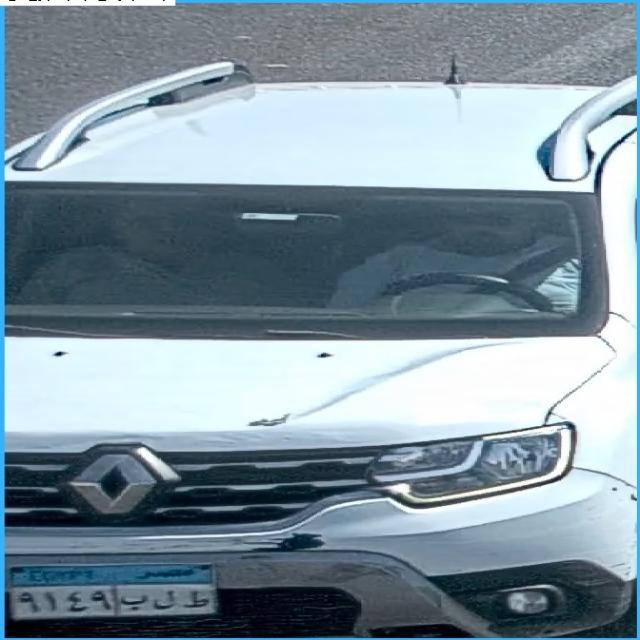windshield: (0, 186, 609, 328)
